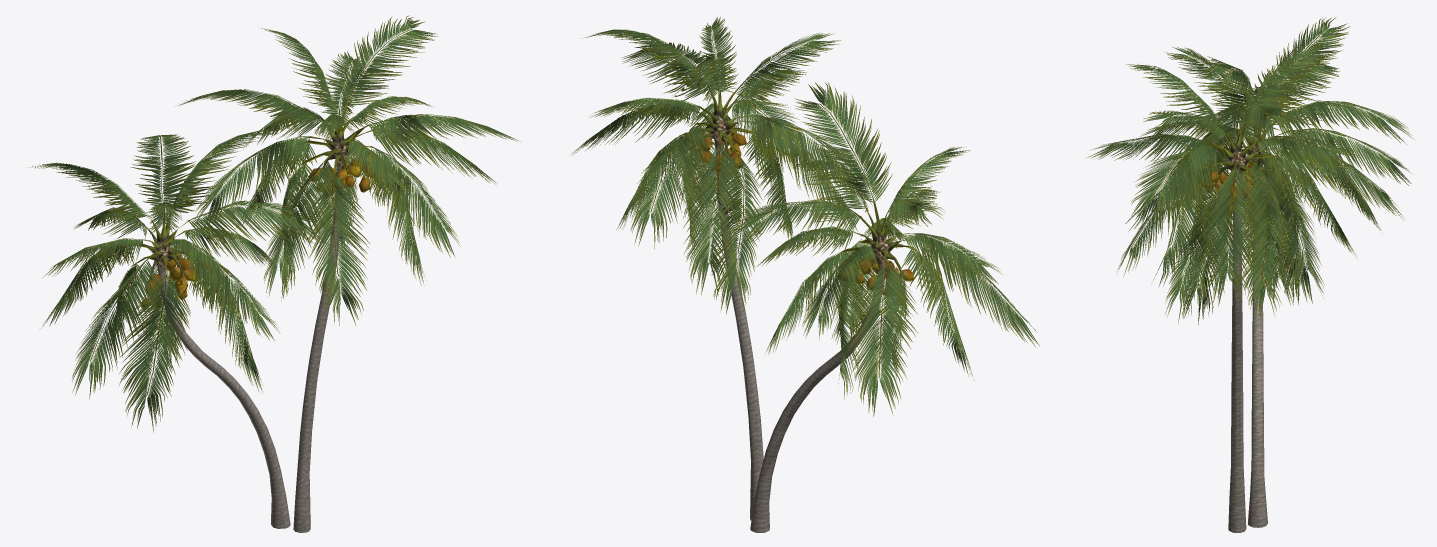
Rendered from palmeira.gltf.
The picture shows the model from 3 angles, left to right: view 1: azimuth 30°, elevation 25°; view 2: azimuth 150°, elevation 25°; view 3: azimuth 270°, elevation 25°; orthographic projection. The views are drawn at different scales.
Visible parts, largest first — view 1: palmeira; view 2: palmeira; view 3: palmeira.
Boxes of the visible parts, x1,y1,x2,y2 form: palmeira: (27, 15, 520, 532); palmeira: (571, 17, 1039, 532); palmeira: (1085, 17, 1413, 532).
Size of the model in its own units: 11.02 by 11 by 7.04.
5 materials, 5 textured.
